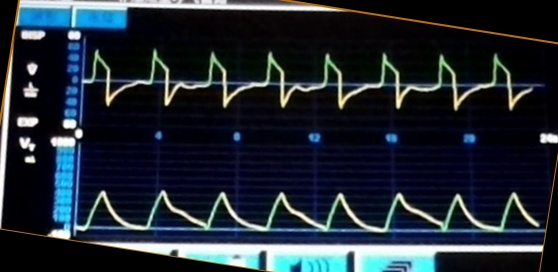Premature_cycling Flow: (86, 41, 530, 126)
Premature_cycling Volume: (80, 164, 542, 239)
